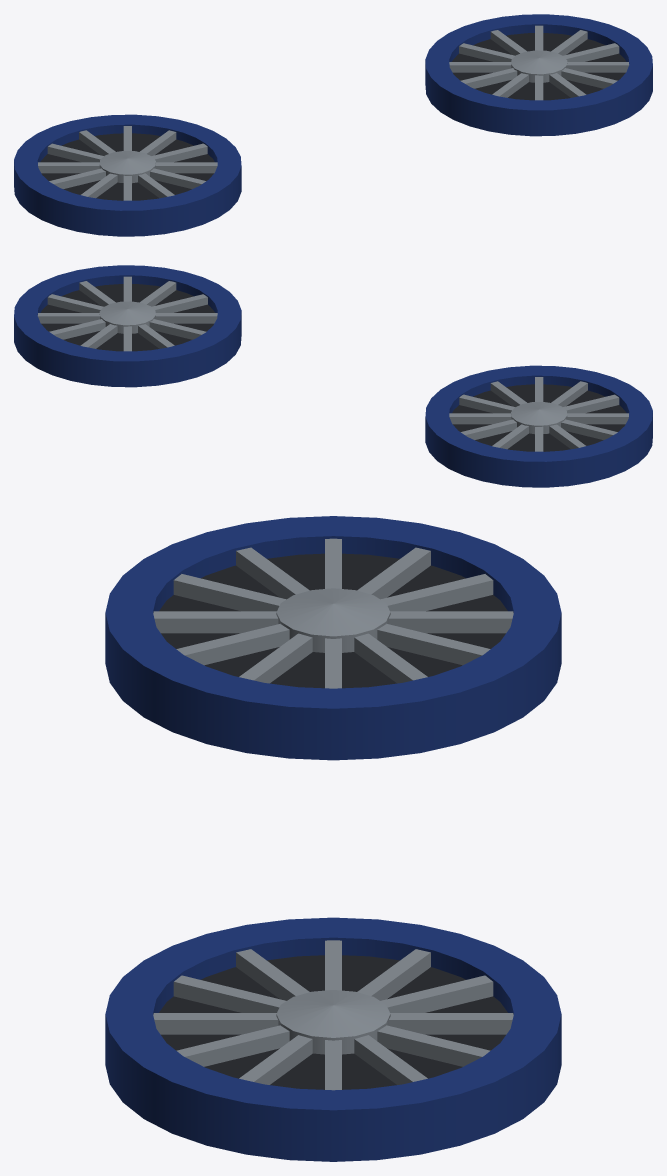
File: l4_fan.obj
The picture shows the model from 3 angles, top to bottom: view 1: azimuth 30°, elevation 25°; view 2: azimuth 150°, elevation 25°; view 3: azimuth 270°, elevation 25°; orthographic projection. The views are drawn at different scales.
Parts seen in each view (by area): view 1: l4_fan; view 2: l4_fan; view 3: l4_fan.
Part boxes in pixels (bbox=[...]): l4_fan: bbox=[14, 14, 652, 236]; l4_fan: bbox=[14, 265, 652, 487]; l4_fan: bbox=[105, 516, 561, 1161].
Bounding box in the file's own units: 1.48 × 0.07 × 0.48.
